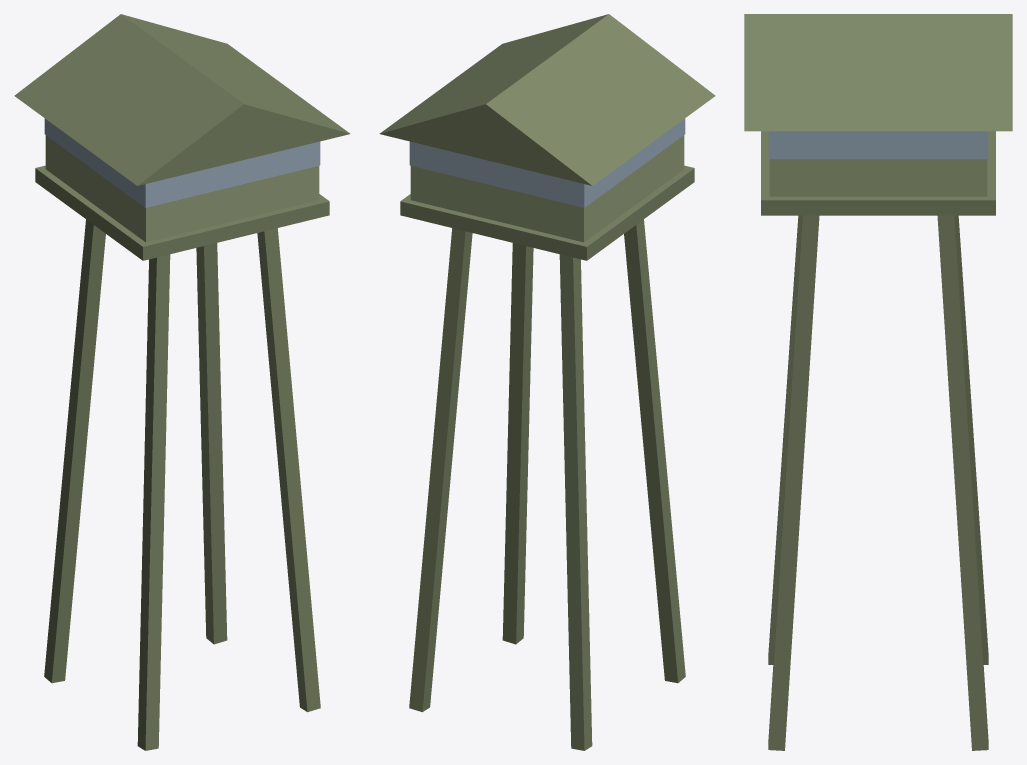
File: watchtower.glb
3 renders of one model, left to right at view 1: azimuth 30°, elevation 25°; view 2: azimuth 150°, elevation 25°; view 3: azimuth 270°, elevation 25°, orthographic. The views are drawn at different scales.
Visible parts, largest first — view 1: watchtower; view 2: watchtower; view 3: watchtower.
Part boxes in pixels (box(x1,y1,x2,y2)): watchtower: box(14, 14, 350, 750); watchtower: box(379, 14, 715, 750); watchtower: box(744, 14, 1012, 750).
Size of the model in its own units: 3.2 by 9.1 by 3.2.
